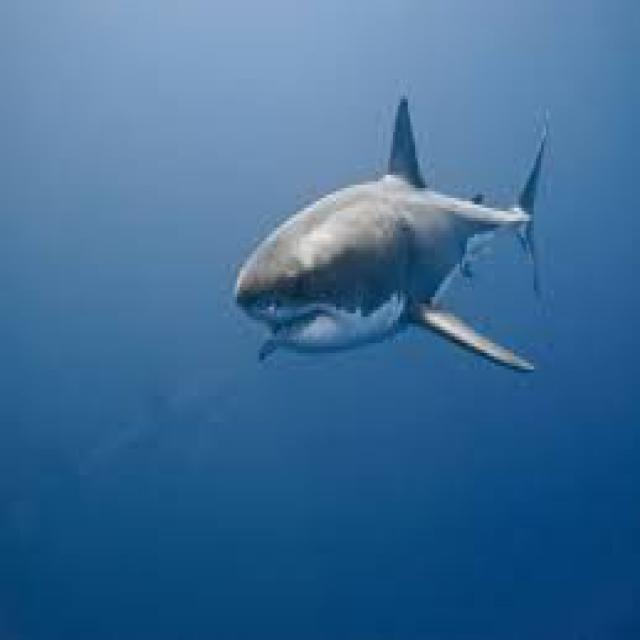shark: (237, 96, 544, 369)
